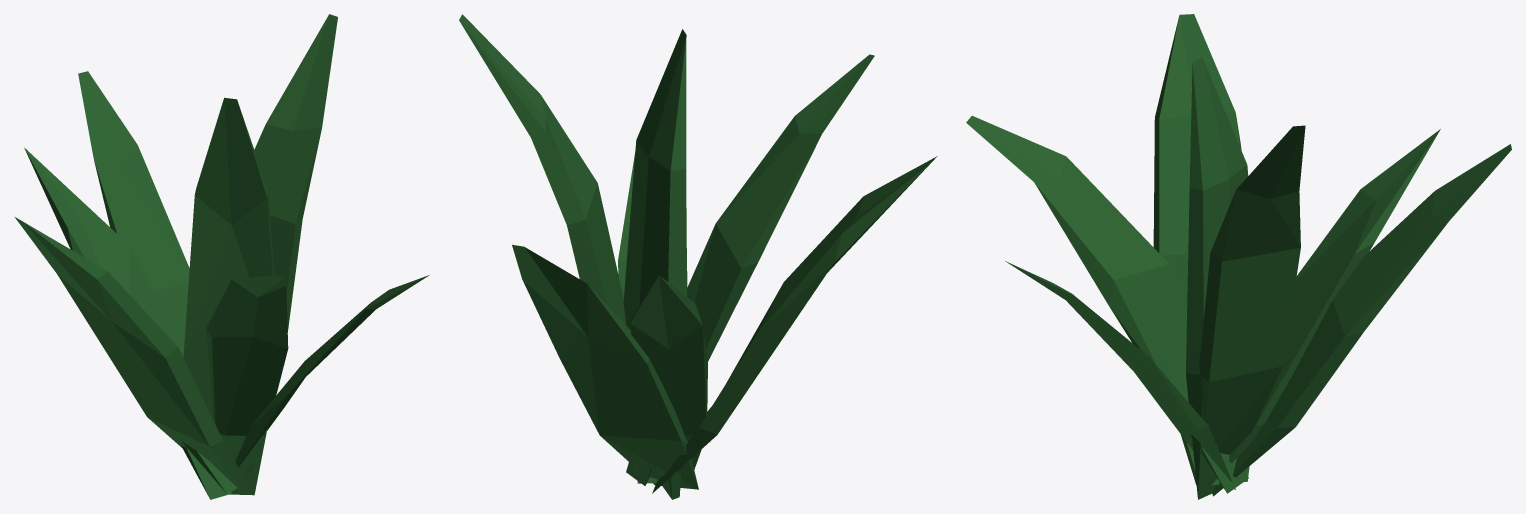
The model's file is bibit padi.fbx.
3 views of the same model, side by side, from view 1: azimuth 30°, elevation 25°; view 2: azimuth 150°, elevation 25°; view 3: azimuth 270°, elevation 25° (orthographic). The views are drawn at different scales.
Parts seen in each view (by area): view 1: bibit padi; view 2: bibit padi; view 3: bibit padi.
Part boxes in pixels (x1,y1,x2,y2): bibit padi: (15, 14, 429, 499); bibit padi: (459, 14, 937, 499); bibit padi: (966, 14, 1511, 499).
Size of the model in its own units: 35.63 by 38.05 by 42.79.
